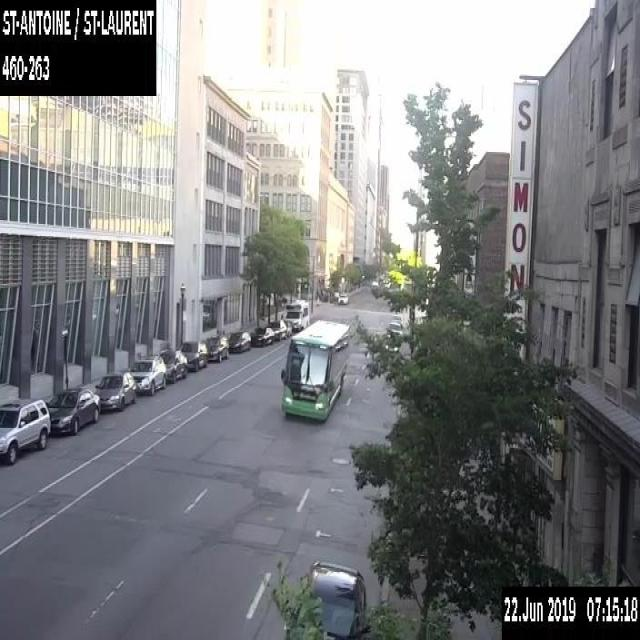bus: (280, 318, 350, 419)
vehicle: (308, 557, 366, 639), (0, 397, 50, 463), (46, 386, 100, 434), (93, 370, 136, 410), (128, 354, 166, 394), (159, 348, 187, 382), (179, 339, 208, 371), (280, 298, 308, 330), (204, 334, 228, 361), (228, 330, 250, 352), (250, 326, 274, 345), (267, 318, 286, 339), (385, 321, 402, 335), (384, 337, 398, 352), (392, 314, 402, 328), (284, 319, 292, 336), (337, 293, 349, 303)
